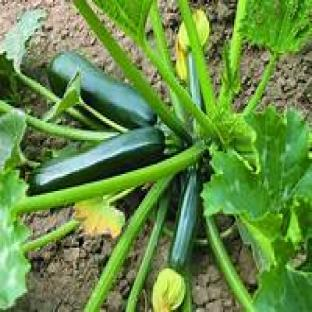Zucchini: (30, 127, 165, 194), (49, 52, 156, 128), (169, 169, 201, 272)
